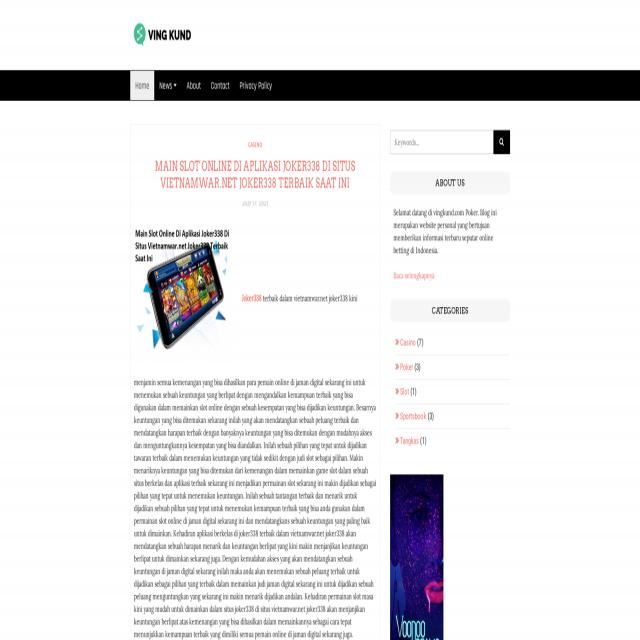button: (134, 225, 234, 364), (390, 473, 444, 640), (130, 9, 200, 61), (235, 70, 277, 100), (154, 70, 182, 100), (206, 70, 234, 100), (130, 70, 154, 100), (182, 70, 206, 100), (493, 130, 510, 154)
field: (390, 130, 494, 154)
